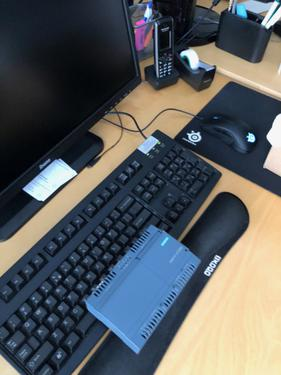device: (85, 225, 202, 356)
